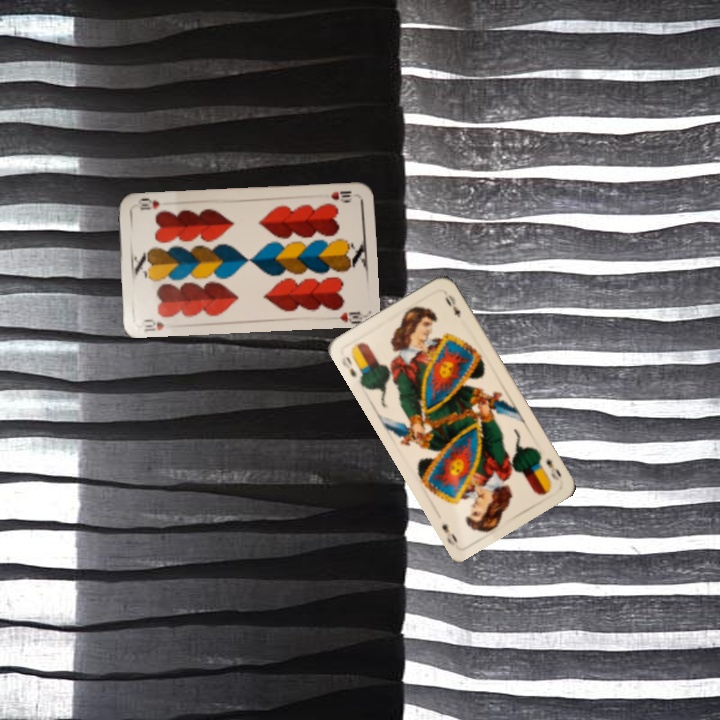EO: (337, 351, 359, 380), (542, 455, 564, 483)
H10: (140, 315, 167, 334), (327, 187, 354, 204)
